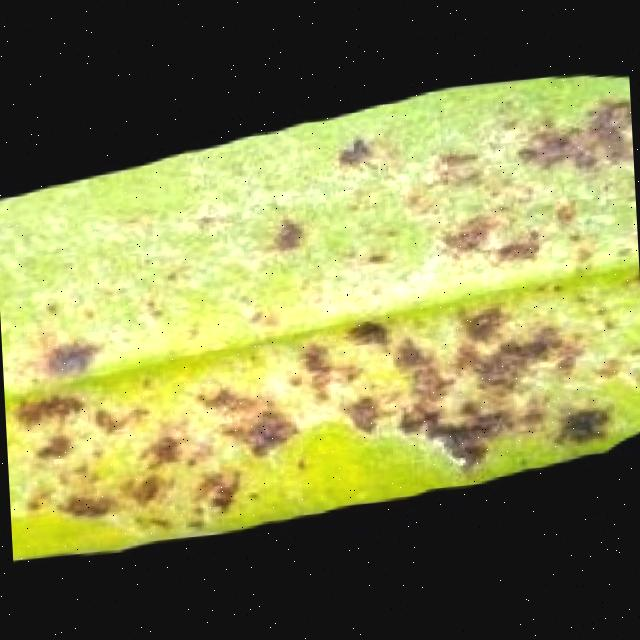mite: (260, 114, 626, 490), (14, 335, 110, 471), (546, 399, 624, 468), (17, 393, 87, 432), (554, 413, 615, 457), (94, 405, 155, 441), (464, 312, 512, 355), (60, 493, 115, 526), (347, 323, 392, 356), (337, 143, 377, 177), (37, 435, 76, 467), (634, 277, 640, 298)
spots: (0, 73, 640, 569)
